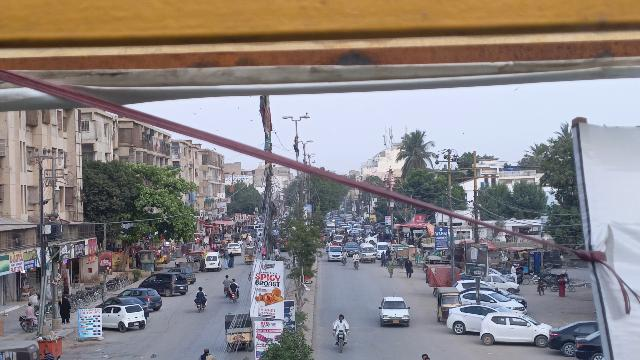Bike: (334, 329, 349, 353), (193, 299, 205, 316), (24, 317, 36, 332), (229, 291, 241, 303), (223, 286, 230, 298)
Car: (478, 309, 550, 348), (545, 316, 596, 357), (446, 301, 505, 336), (459, 288, 528, 312), (101, 304, 147, 333), (139, 271, 190, 297), (376, 291, 412, 327), (119, 287, 163, 311), (572, 324, 600, 360)
Person: (58, 293, 74, 324), (334, 313, 347, 332), (25, 301, 37, 319), (195, 286, 204, 301), (229, 279, 237, 293), (223, 273, 230, 288)
Rickshaw: (223, 310, 254, 351), (435, 287, 461, 322)
